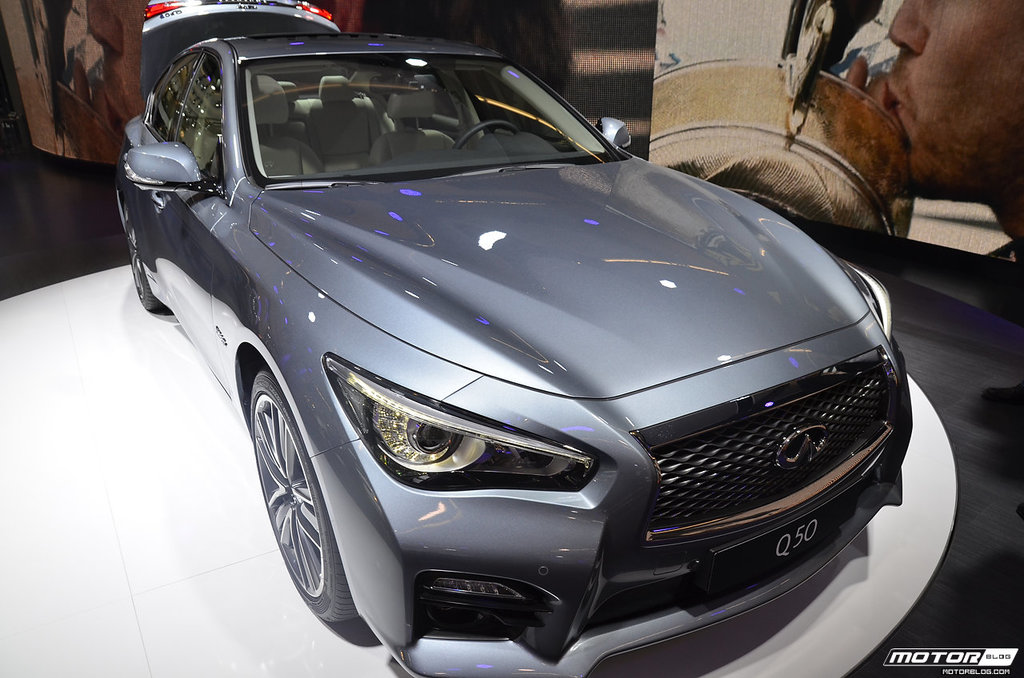car: (86, 30, 934, 656)
